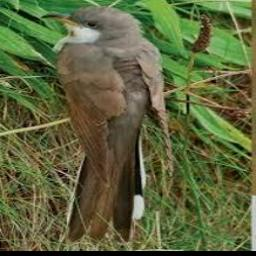Cuckoo: (41, 7, 167, 238)
